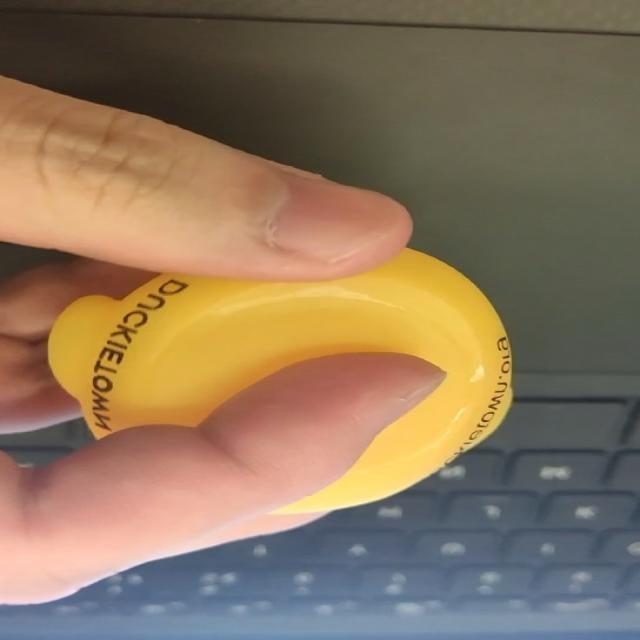rubber-duck: (48, 248, 510, 511)
